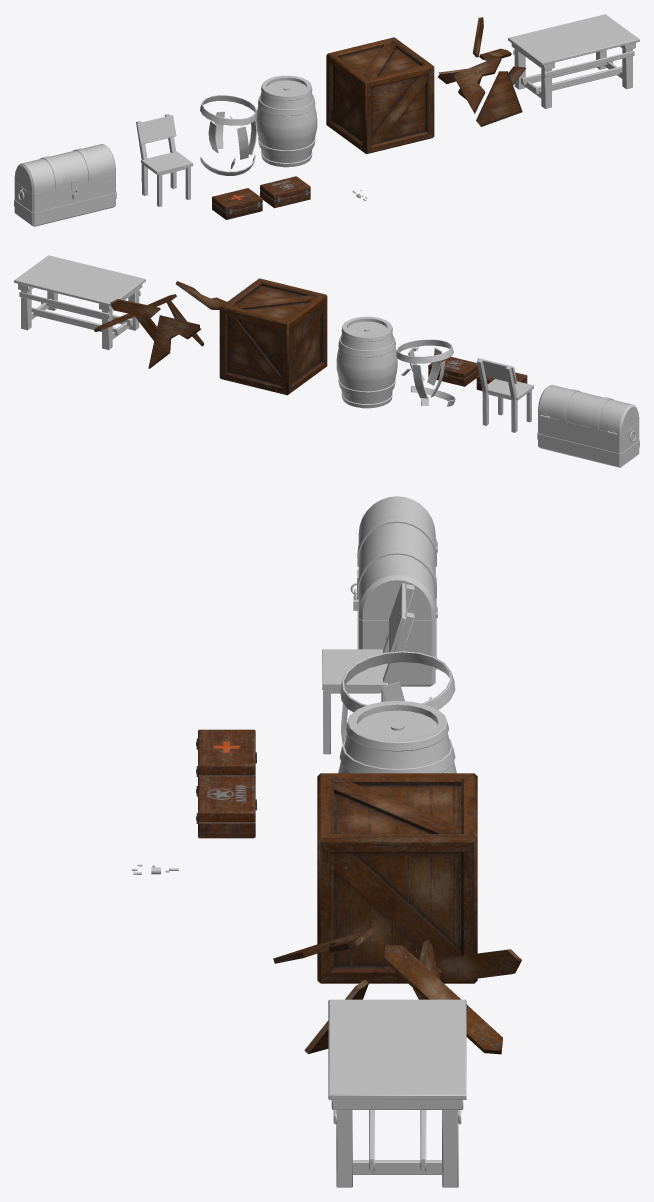
3 renders of one model, top to bottom at view 1: azimuth 30°, elevation 25°; view 2: azimuth 150°, elevation 25°; view 3: azimuth 270°, elevation 25°, orthographic. The views are drawn at different scales.
Parts seen in each view (by area): view 1: crate_1, table, barrel, lower, upper, chair, piece_2_2, healthbox, ammobox, piece_1, piece1, piece2_1; view 2: crate_1, table, barrel, lower, upper, chair, piece_4, ammobox, piece1, piece_3, piece_1, piece; view 3: crate_1, table, upper, barrel, chair, ammobox, lower, piece, healthbox, piece_3, piece1, piece_1.
Part boxes in pixels (bbox=[...]): crate_1: bbox=[326, 37, 434, 154]; table: bbox=[508, 14, 639, 108]; barrel: bbox=[256, 75, 317, 167]; lower: bbox=[14, 173, 116, 226]; upper: bbox=[14, 144, 115, 193]; chair: bbox=[136, 114, 193, 206]; piece_2_2: bbox=[476, 71, 522, 126]; healthbox: bbox=[212, 188, 262, 219]; ammobox: bbox=[260, 176, 310, 208]; piece_1: bbox=[453, 56, 501, 113]; piece1: bbox=[200, 95, 257, 125]; piece2_1: bbox=[237, 126, 248, 159]; crate_1: bbox=[219, 278, 327, 395]; table: bbox=[14, 255, 145, 349]; barrel: bbox=[336, 316, 397, 408]; lower: bbox=[537, 414, 639, 467]; upper: bbox=[538, 385, 639, 434]; chair: bbox=[477, 358, 533, 432]; piece_4: bbox=[148, 315, 200, 368]; ammobox: bbox=[428, 356, 479, 386]; piece1: bbox=[396, 339, 453, 363]; piece_3: bbox=[110, 299, 160, 317]; piece_1: bbox=[175, 281, 226, 309]; piece: bbox=[94, 294, 176, 331]; crate_1: bbox=[317, 773, 477, 983]; table: bbox=[328, 999, 466, 1187]; upper: bbox=[350, 496, 436, 620]; barrel: bbox=[338, 700, 456, 773]; chair: bbox=[322, 583, 414, 754]; ammobox: bbox=[196, 776, 256, 838]; lower: bbox=[357, 541, 437, 686]; piece: bbox=[384, 944, 502, 1054]; healthbox: bbox=[196, 729, 256, 777]; piece_3: bbox=[435, 949, 521, 982]; piece1: bbox=[340, 651, 455, 712]; piece_1: bbox=[273, 926, 375, 963].
Size of the model in its own units: 1251 by 165 by 351.
